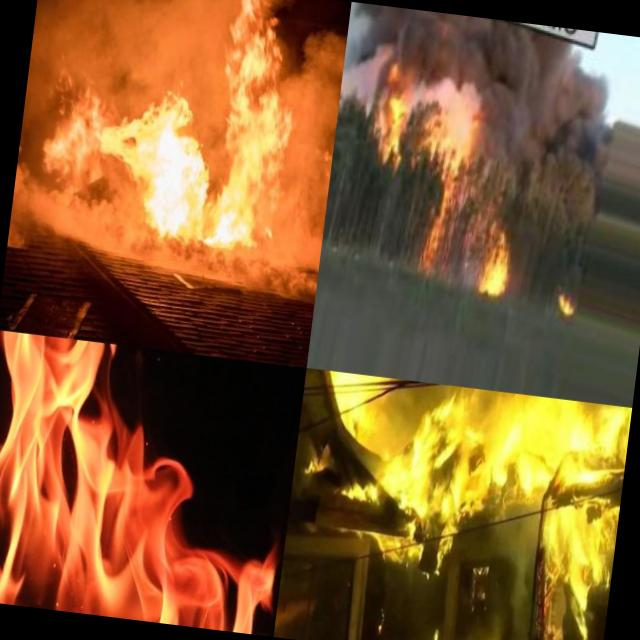fire: (0, 329, 306, 636), (326, 374, 631, 640), (34, 74, 220, 236), (197, 0, 307, 243), (422, 176, 456, 268), (479, 226, 523, 297), (384, 78, 415, 154), (422, 122, 477, 164), (549, 286, 583, 314)
smoke: (412, 30, 614, 141), (264, 25, 348, 288), (27, 0, 233, 100), (48, 217, 267, 290), (7, 118, 64, 251), (338, 1, 399, 110)
